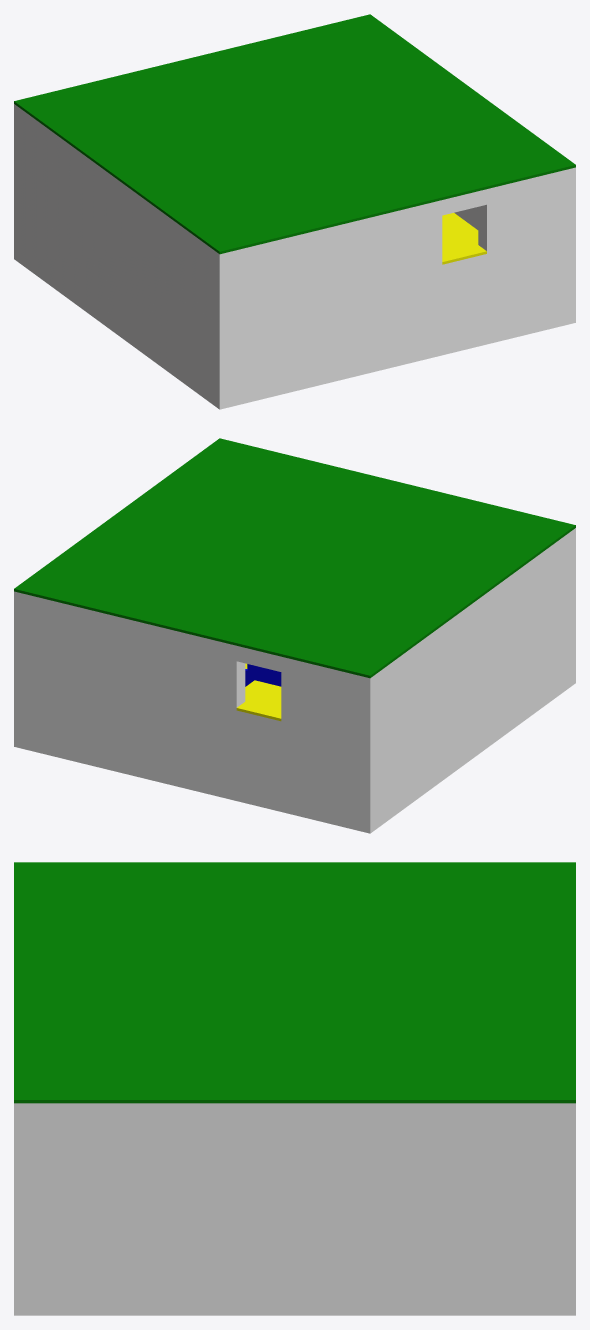
File: room_proto_detailed.obj
The picture shows the model from 3 angles, top to bottom: view 1: azimuth 30°, elevation 25°; view 2: azimuth 150°, elevation 25°; view 3: azimuth 270°, elevation 25°; orthographic projection. The views are drawn at different scales.
Size of the model in its own units: 14.4 by 6.1 by 14.4.
